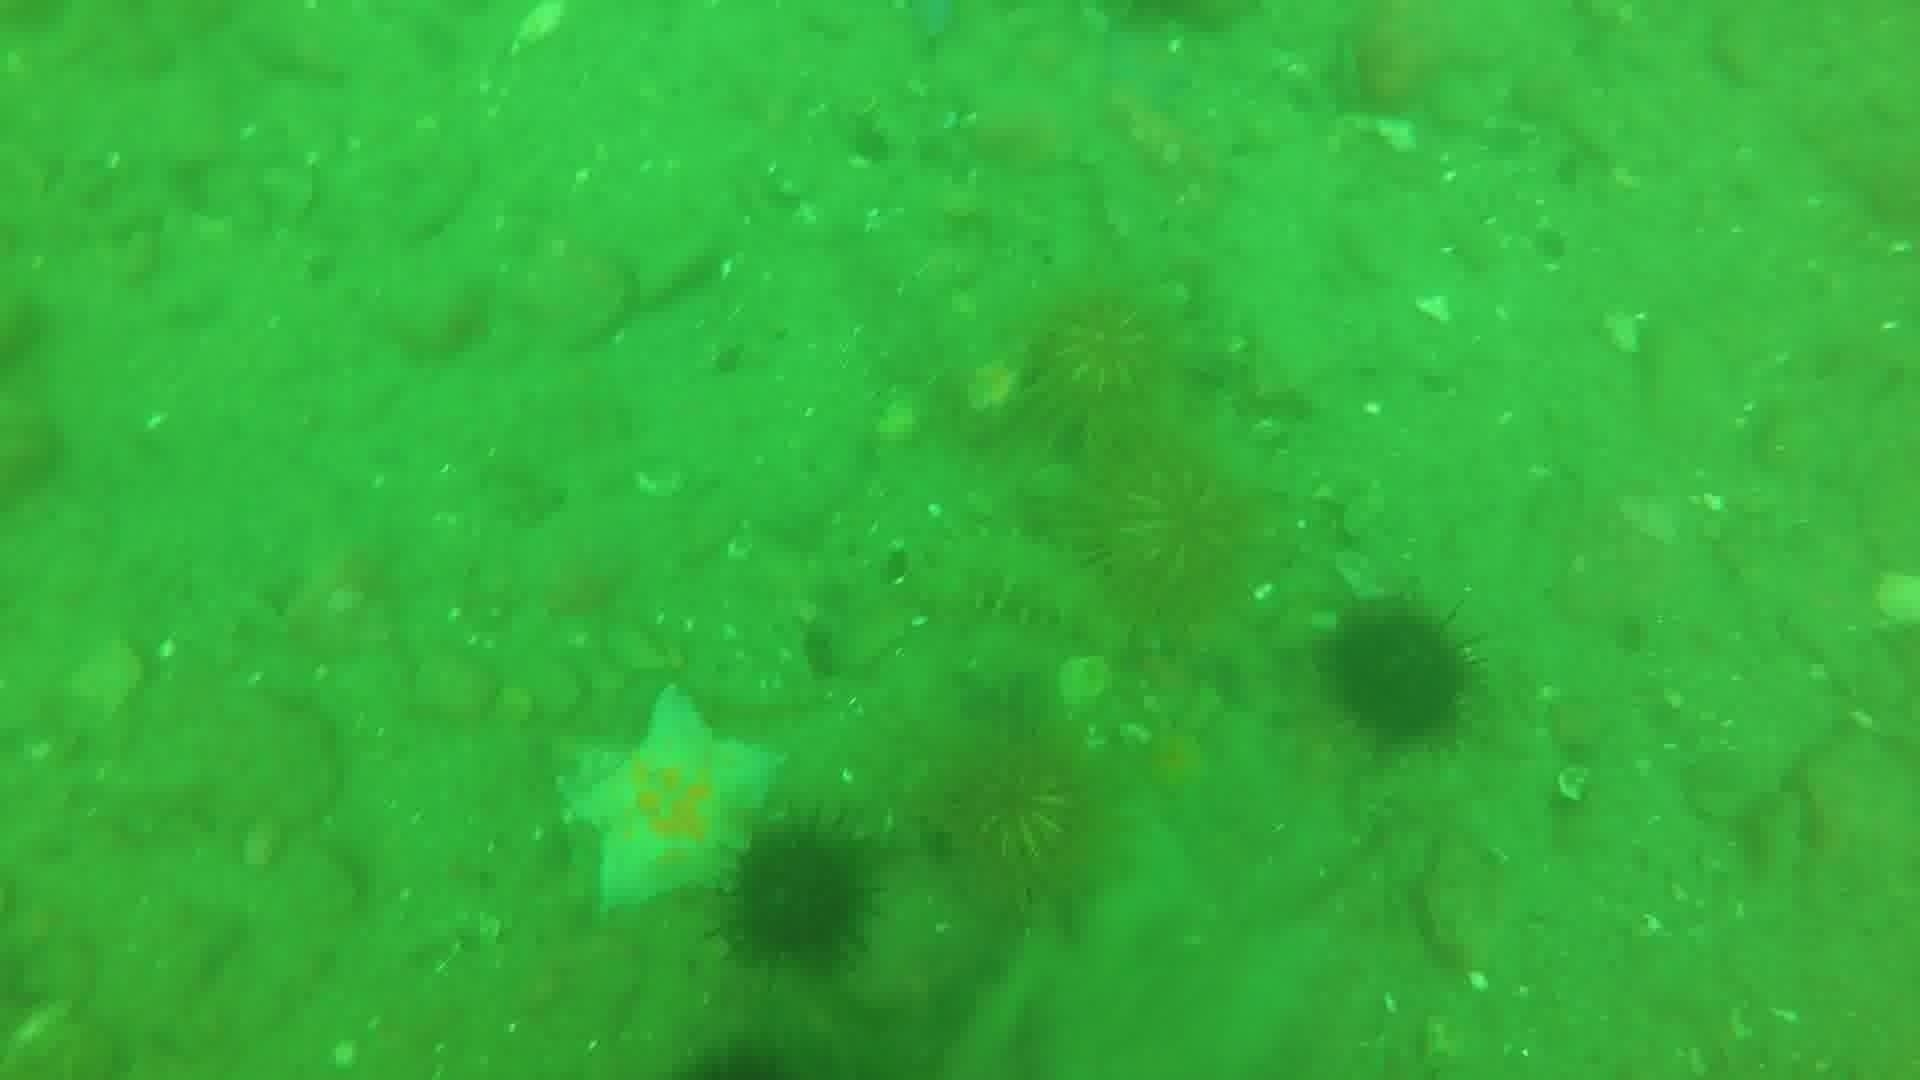echinus: (1072, 436, 1265, 630), (928, 725, 1100, 893), (1015, 277, 1185, 434), (716, 815, 880, 972), (1317, 597, 1481, 752)
holothurian: (913, 529, 1134, 647)
starfish: (559, 684, 787, 918)
